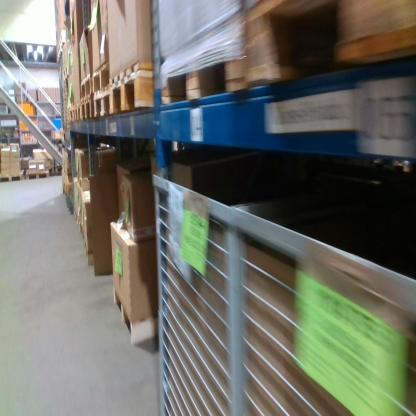pallets: (148, 0, 416, 120), (64, 58, 157, 124), (104, 284, 154, 356), (23, 170, 51, 180), (0, 173, 22, 185)
